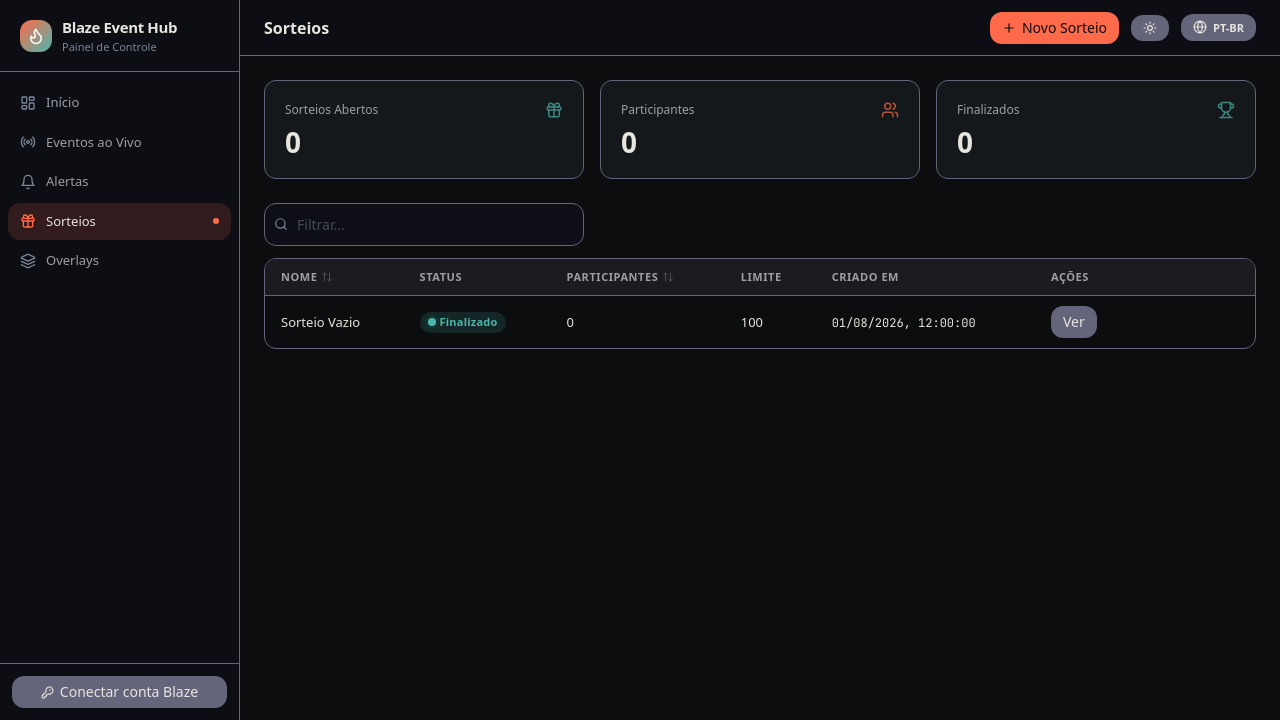
Test: Giveaways › modal de detalhes sem vencedores mostra o estado vazio
The width and height of the screenshot is (1280, 720).
Click the button "Ver" at (1074, 322), box [1051,306,1097,338]
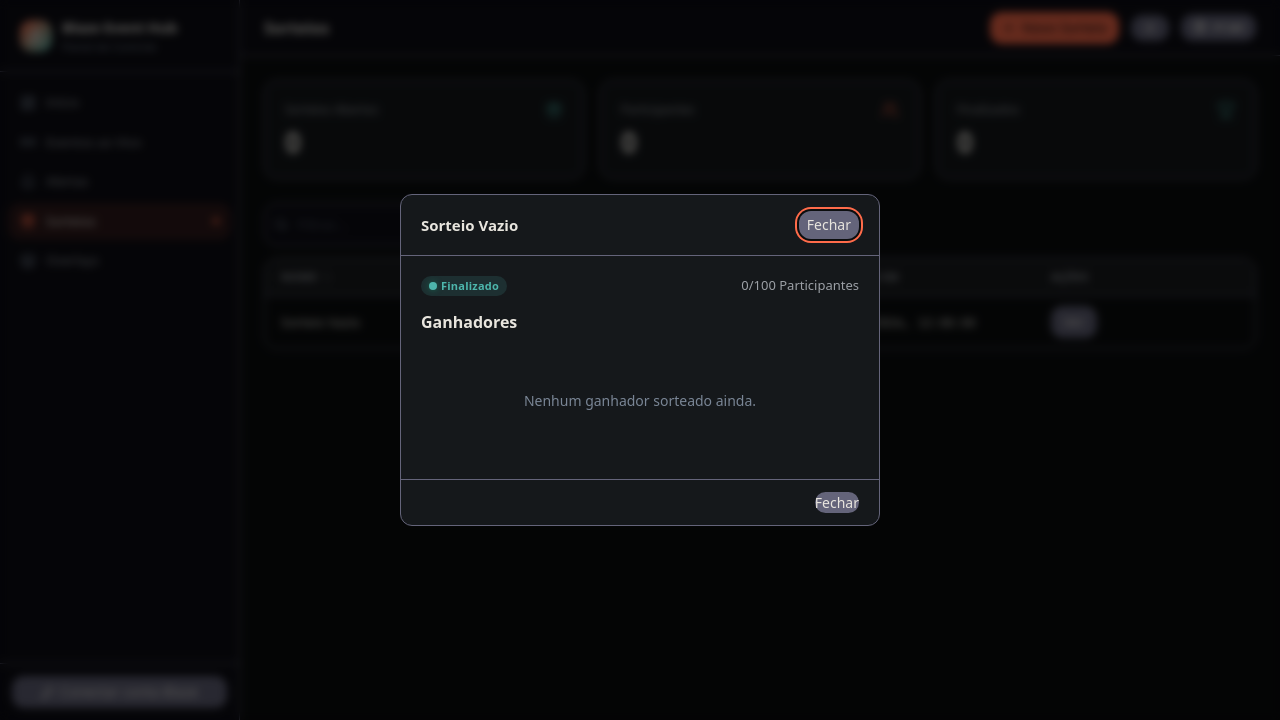
Result: the heading "Sorteio Vazio" is shown at [421,214,518,236]
Result: the text "Nenhum ganhador sorteado ainda." is shown at [524,391,756,410]
